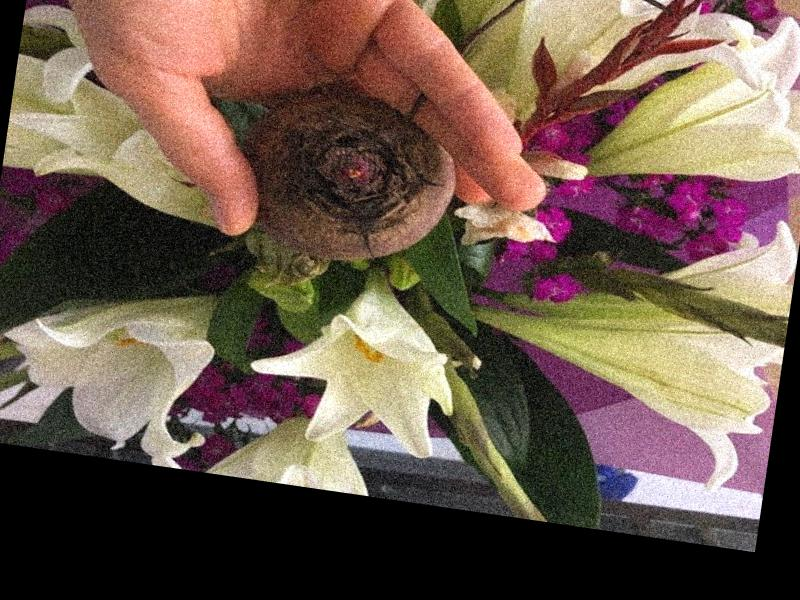Beet: (232, 75, 470, 276)
